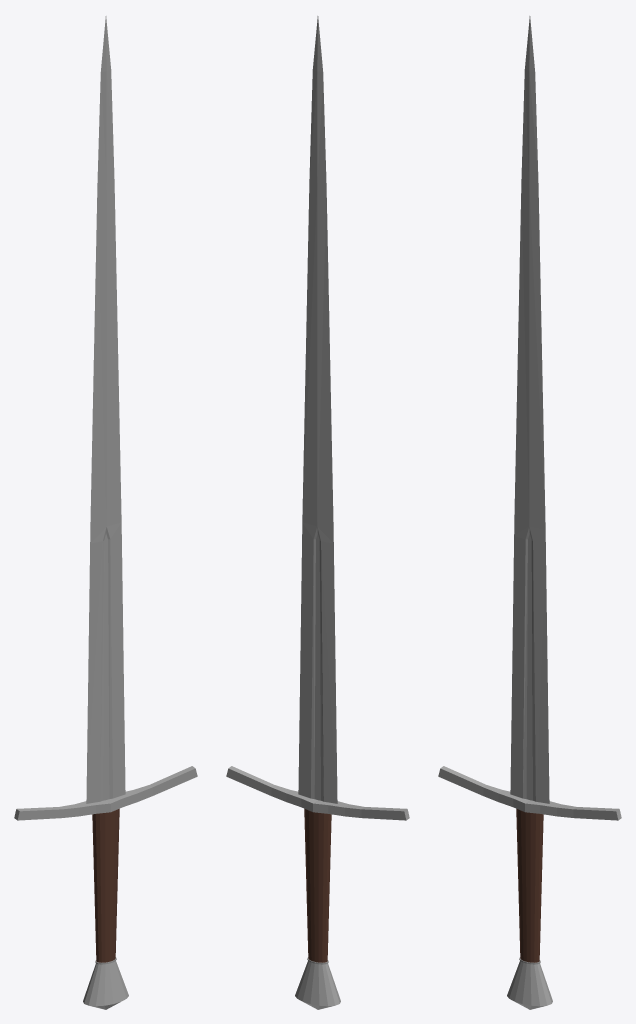
File: Sword.fbx
The picture shows the model from 3 angles, left to right: view 1: azimuth 30°, elevation 25°; view 2: azimuth 150°, elevation 25°; view 3: azimuth 330°, elevation 25°; orthographic projection.
Parts seen in each view (by area): view 1: Sword; view 2: Sword; view 3: Sword.
Part boxes in pixels (x1,y1,x2,y2): Sword: (14,16,197,1009); Sword: (226,16,409,1009); Sword: (438,16,621,1009).
Bounding box in the file's own units: 19.89 × 105 × 2.89.
